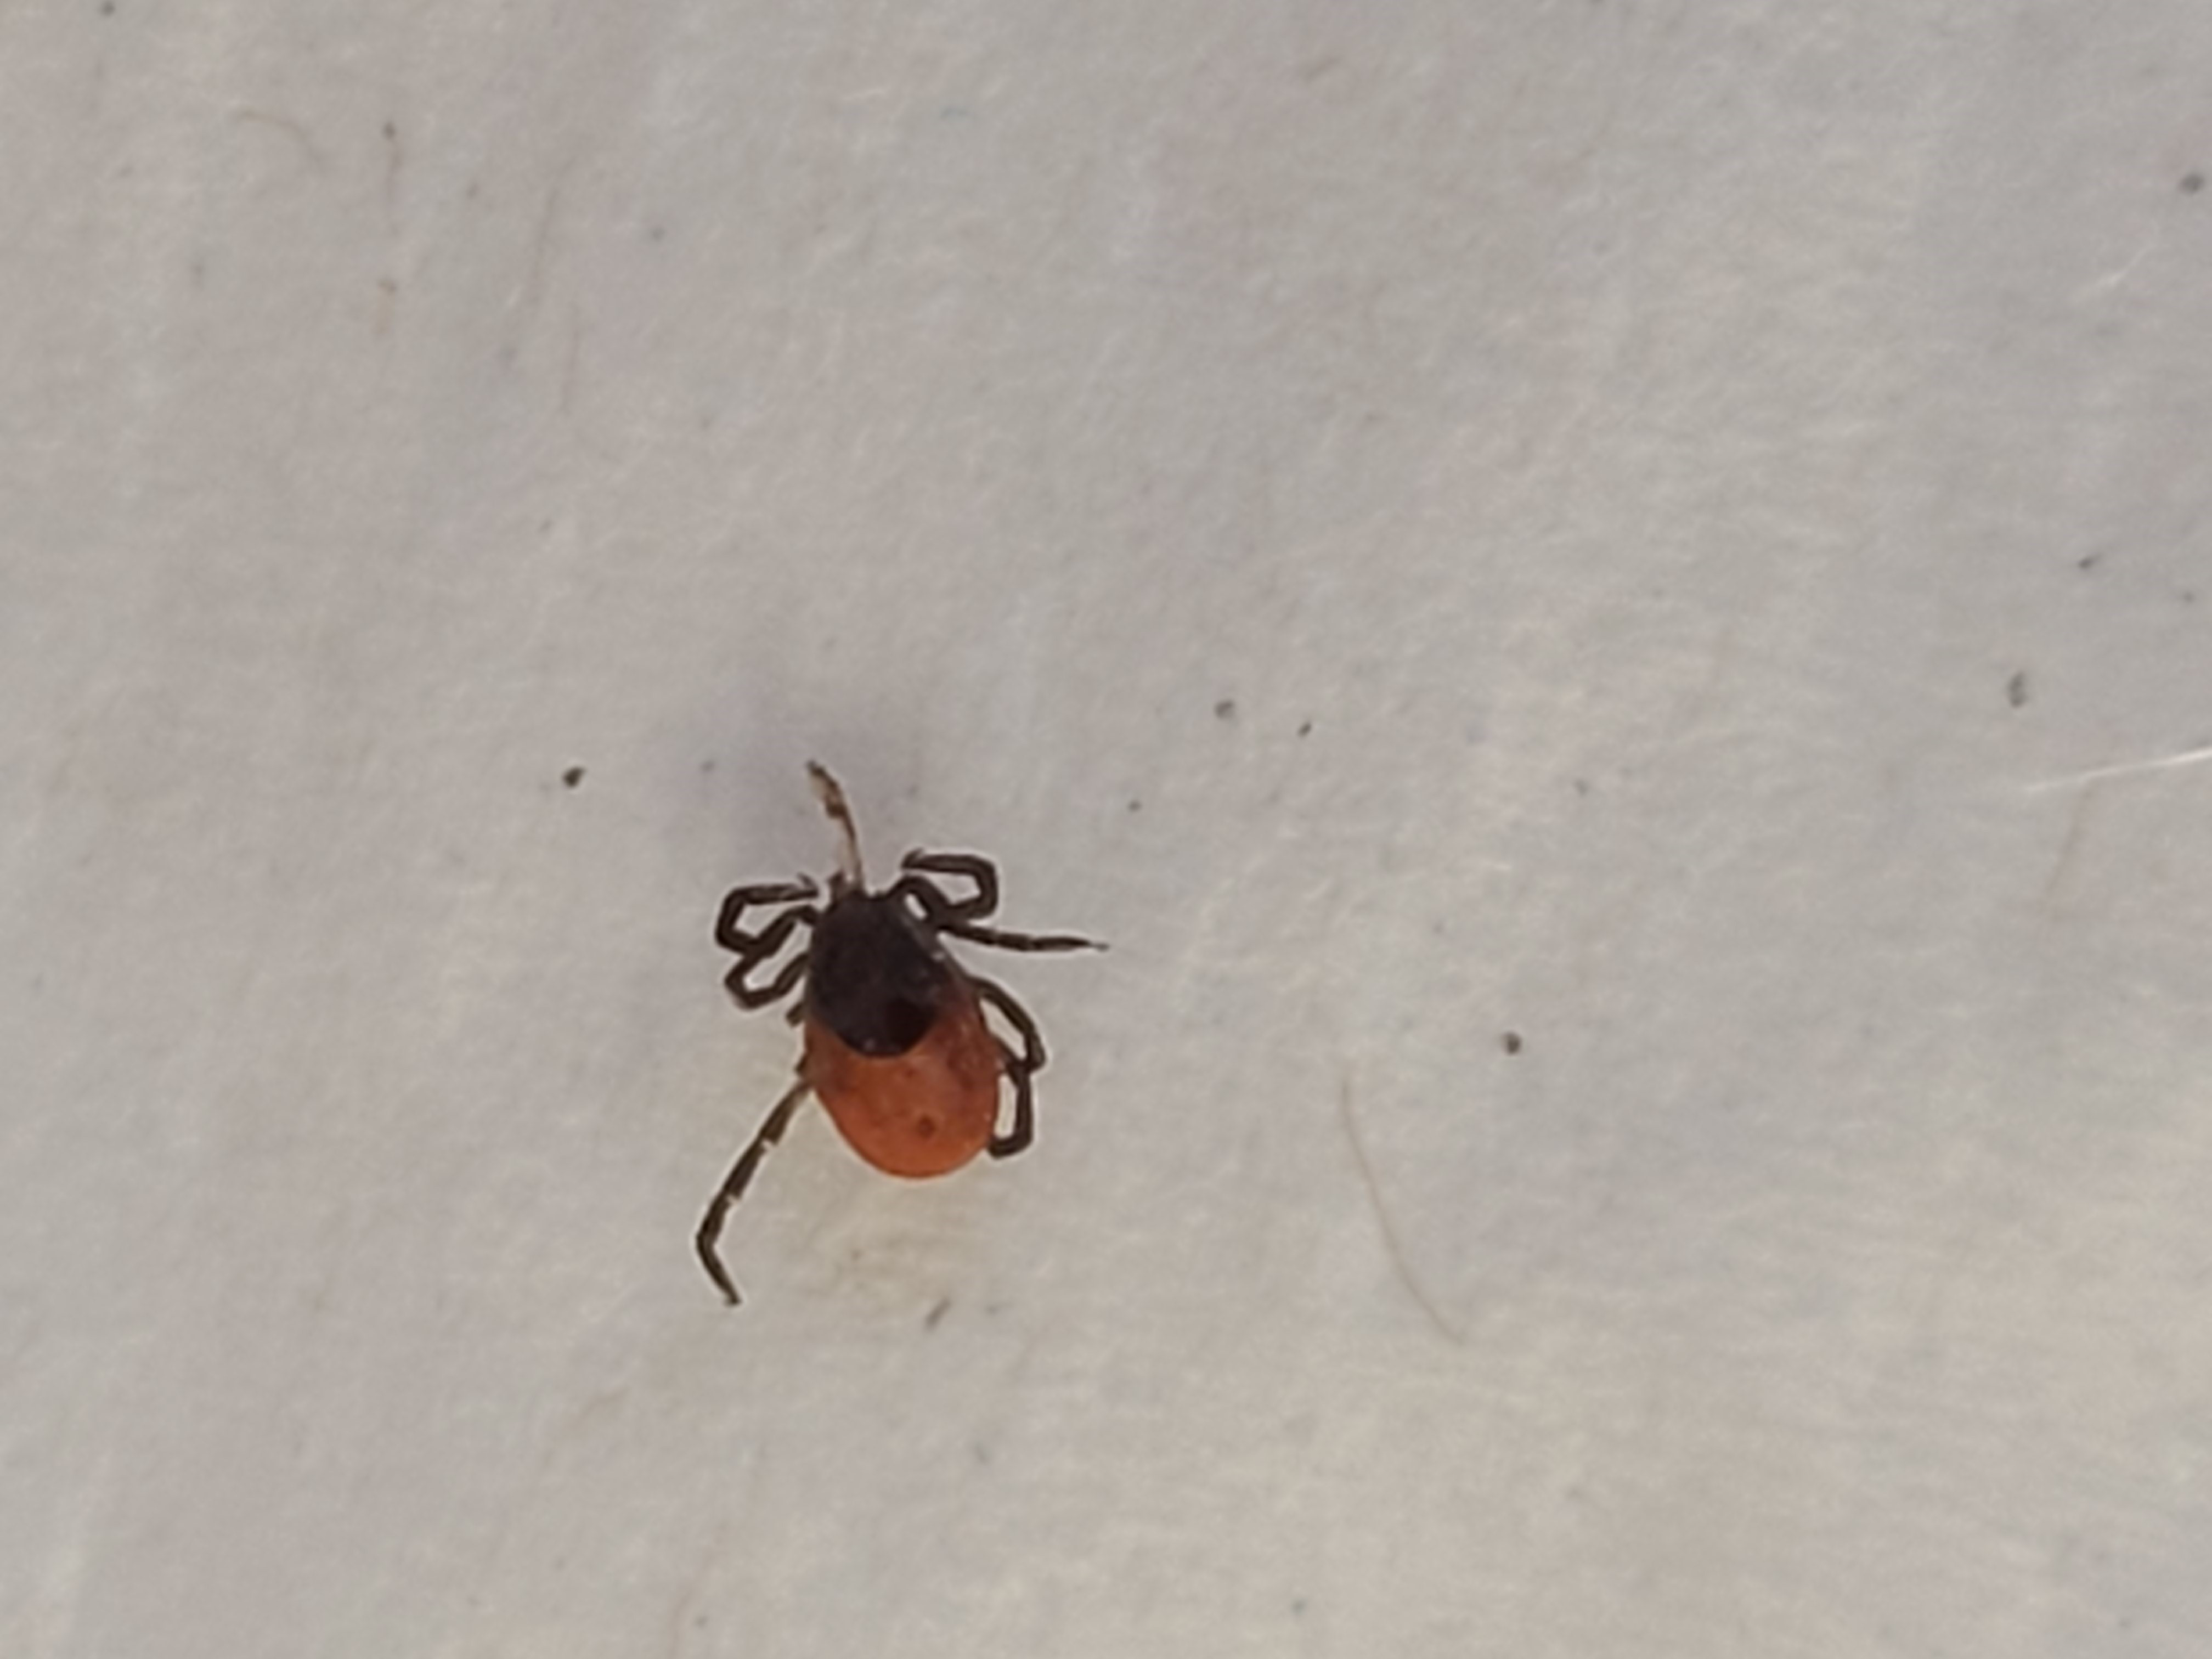unlabelled_tick: (622, 750, 1144, 1322)
